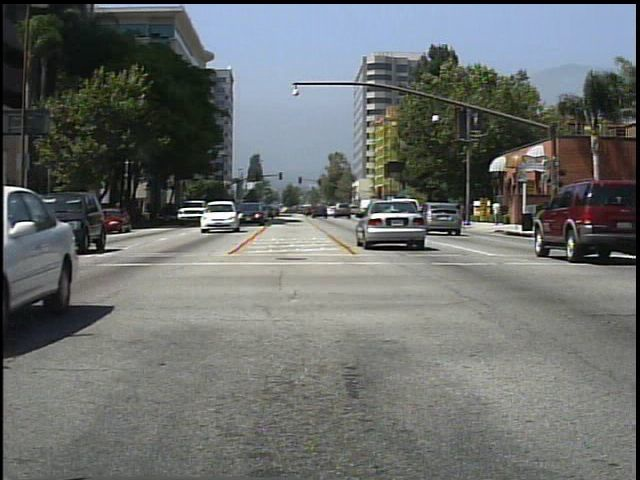person: (448, 194, 465, 229), (491, 196, 504, 228)
